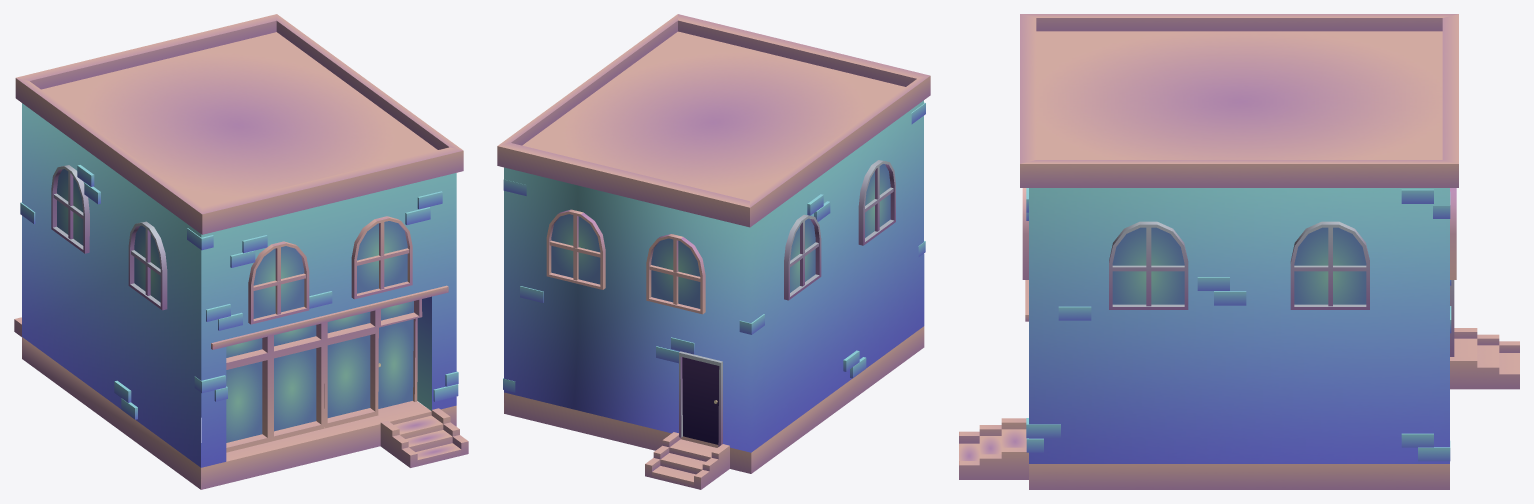
3 views of the same model, side by side, from view 1: azimuth 30°, elevation 25°; view 2: azimuth 150°, elevation 25°; view 3: azimuth 270°, elevation 25° (orthographic). The views are drawn at different scales.
Visible parts, largest first — view 1: SM_2F_04; view 2: SM_2F_04; view 3: SM_2F_04.
Part boxes in pixels (x1,y1,x2,y2): SM_2F_04: (14,14,468,489); SM_2F_04: (497,14,930,489); SM_2F_04: (959,14,1519,489).
Bounding box in the file's own units: 7.78 × 12.09 × 7.81.
